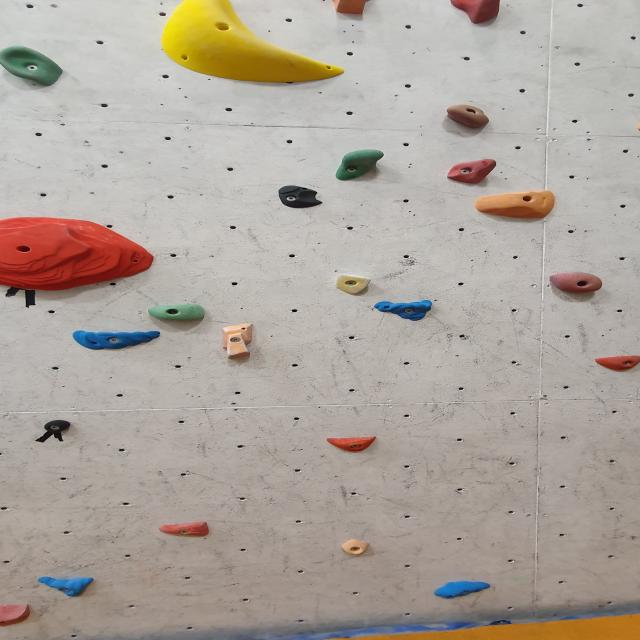Crimp: (2, 218, 160, 292), (69, 331, 164, 352), (38, 577, 98, 598), (433, 581, 493, 600), (371, 302, 434, 320), (155, 522, 213, 538), (324, 438, 382, 454), (591, 355, 640, 371), (333, 276, 372, 296), (339, 538, 371, 555)
Jug: (1, 46, 70, 88), (333, 150, 387, 183), (446, 0, 504, 25), (444, 160, 498, 186), (441, 104, 492, 130), (546, 272, 606, 294), (148, 304, 209, 324)
Pinch: (209, 323, 263, 362), (328, 0, 382, 17), (39, 417, 72, 438)
Sloper: (155, 0, 346, 86), (471, 191, 559, 221), (274, 185, 326, 208), (0, 605, 32, 628)
